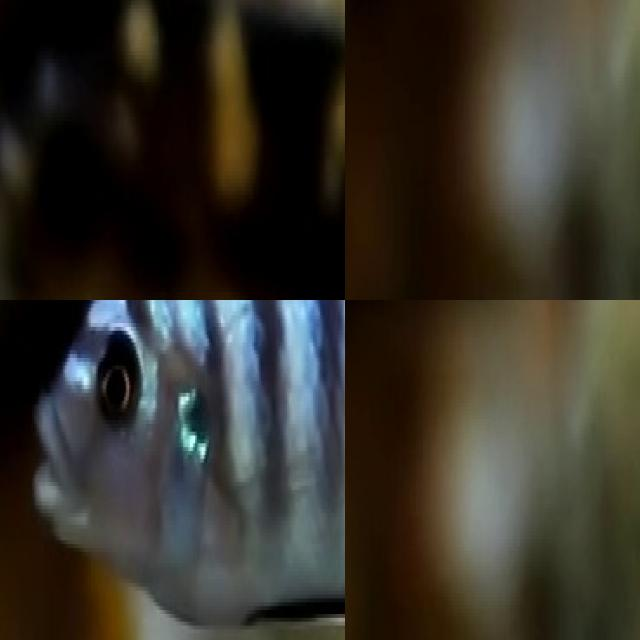fish: (32, 300, 345, 633), (0, 0, 345, 300)
